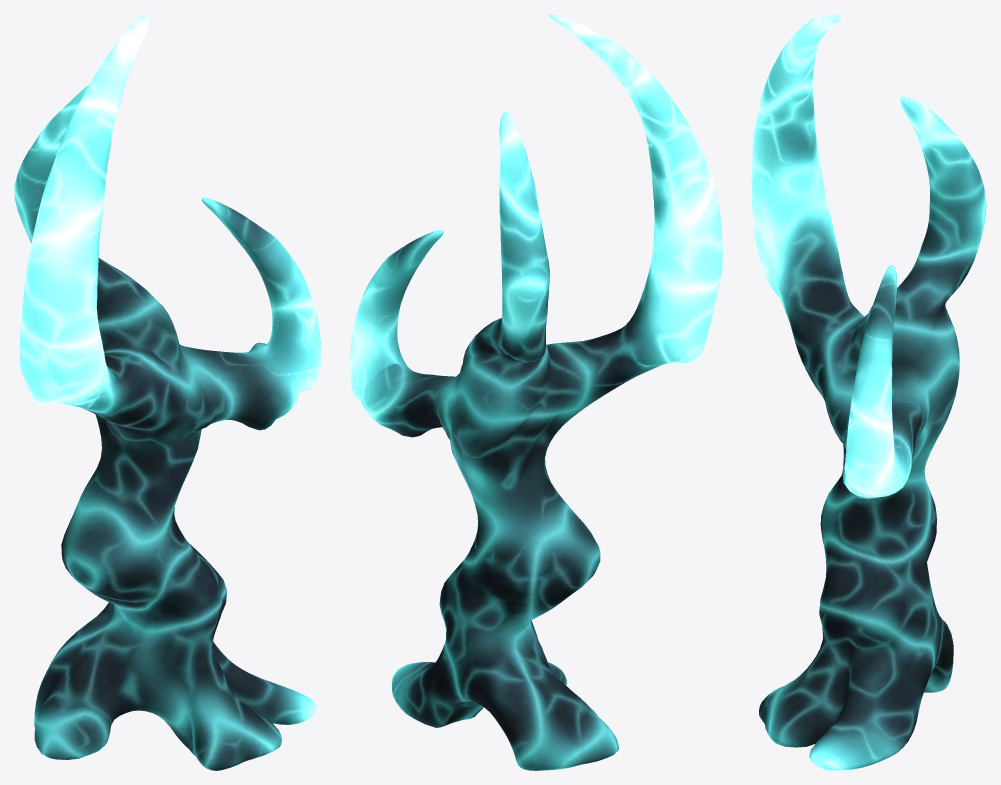
Rendered from caos_sts_clawplant_01c_soma_v36.glb.
3 views of the same model, side by side, from view 1: azimuth 30°, elevation 25°; view 2: azimuth 150°, elevation 25°; view 3: azimuth 270°, elevation 25° (orthographic). The views are drawn at different scales.
Visible parts, largest first — view 1: caos_sts_clawplant_01c; view 2: caos_sts_clawplant_01c; view 3: caos_sts_clawplant_01c.
Part boxes in pixels (x1,y1,x2,y2): caos_sts_clawplant_01c: (14, 14, 321, 770); caos_sts_clawplant_01c: (350, 14, 722, 770); caos_sts_clawplant_01c: (751, 14, 986, 770).
Bounding box in the file's own units: 2.82 × 5.97 × 1.85.
Materials: 1 (1 with a texture image).
